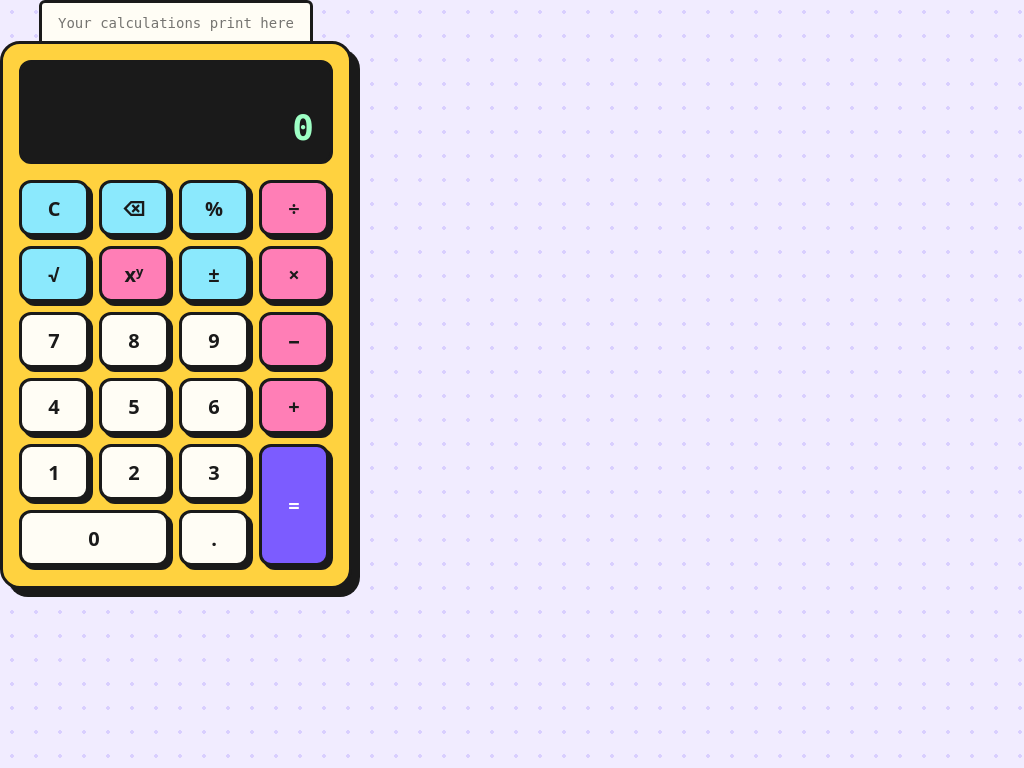
Calculator › adds through the backend
Click the button "1" at point(54, 472), box [19,444,89,500]
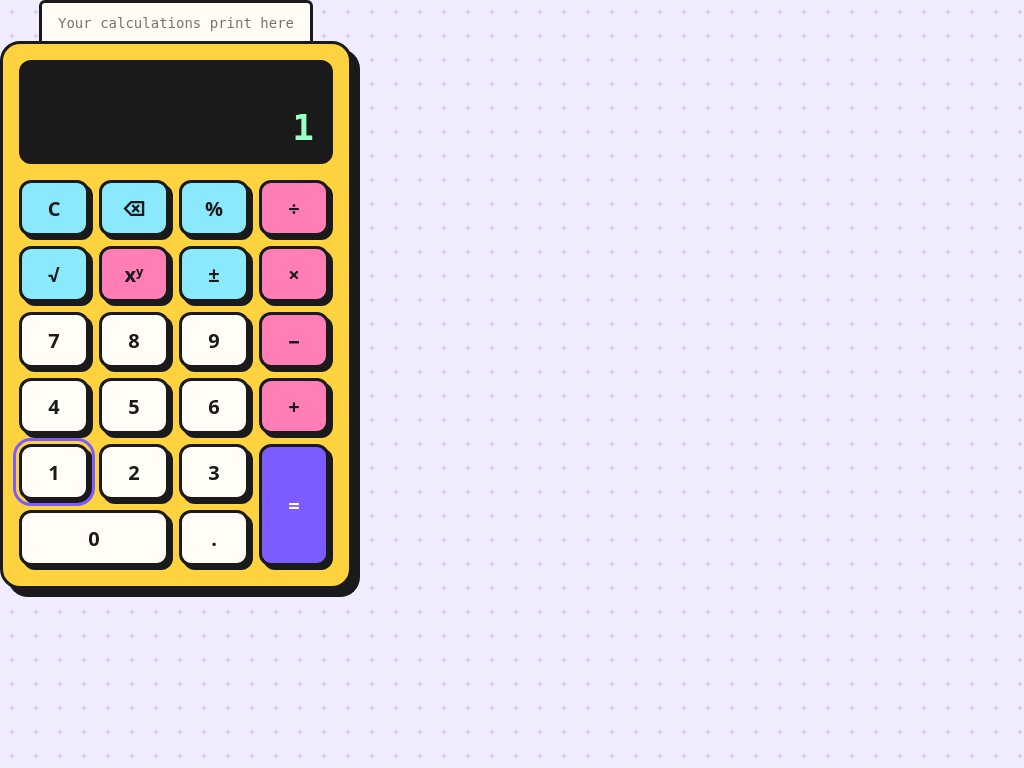
Click the button "2" at point(134, 472), box [99,444,169,500]
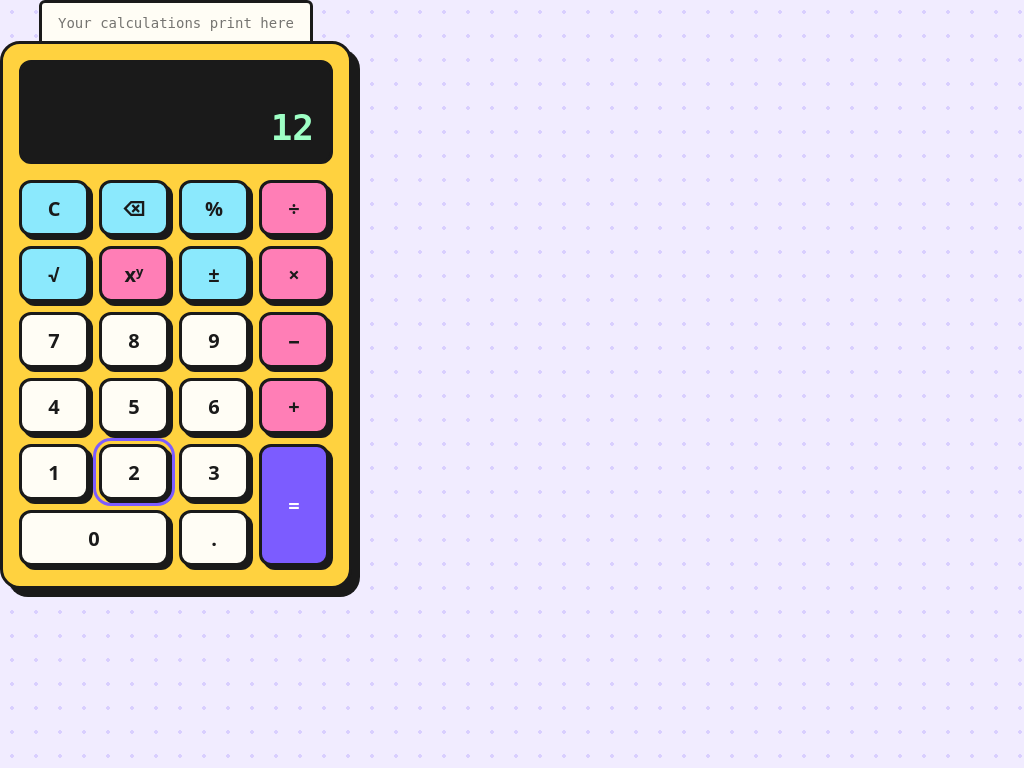
Click the button named "Add" at point(294, 406), box [259,378,329,434]
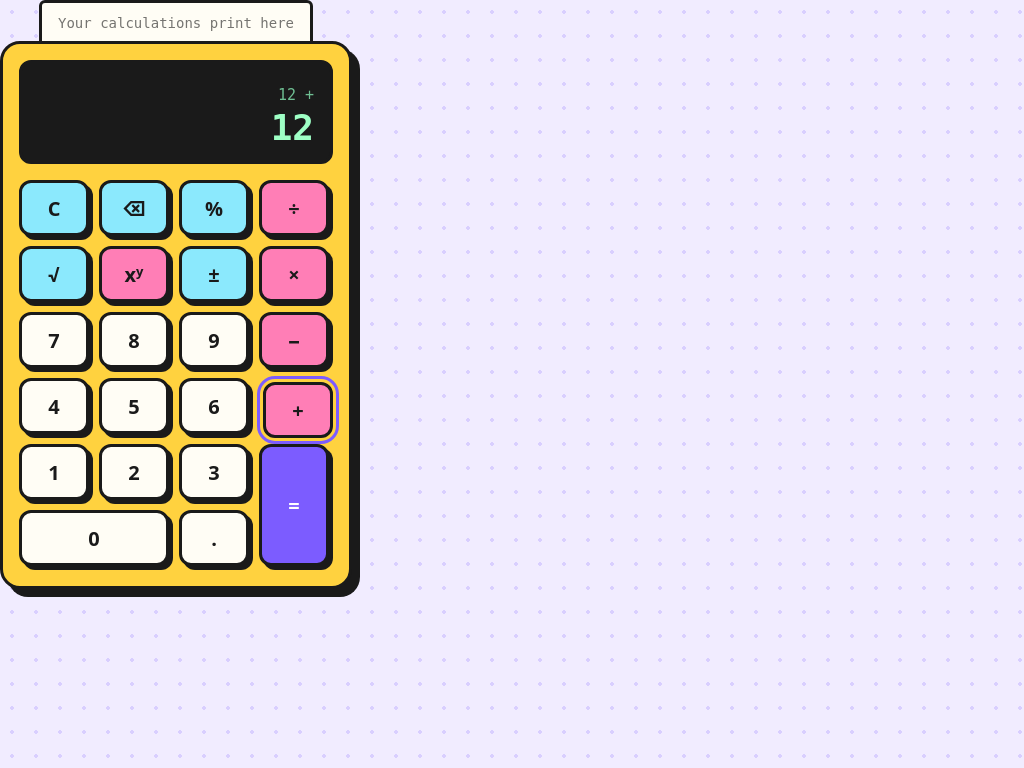
Click the button "3" at point(214, 472), box [179,444,249,500]
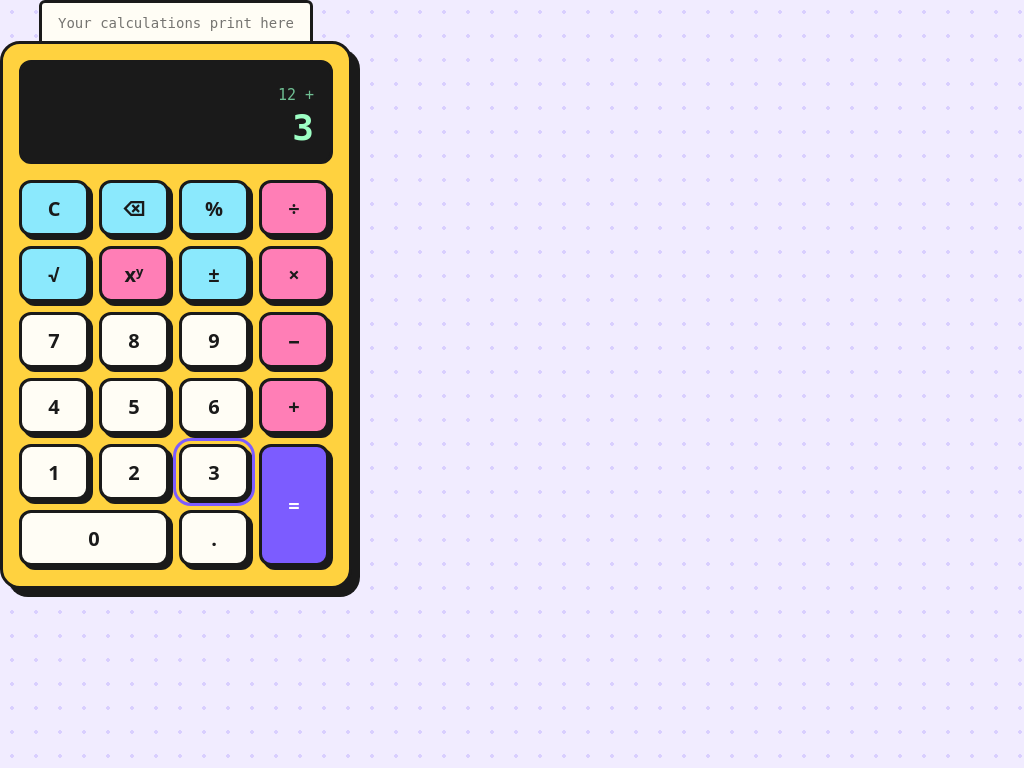
Click the button named "Equals" at point(294, 505), box [259,444,329,566]
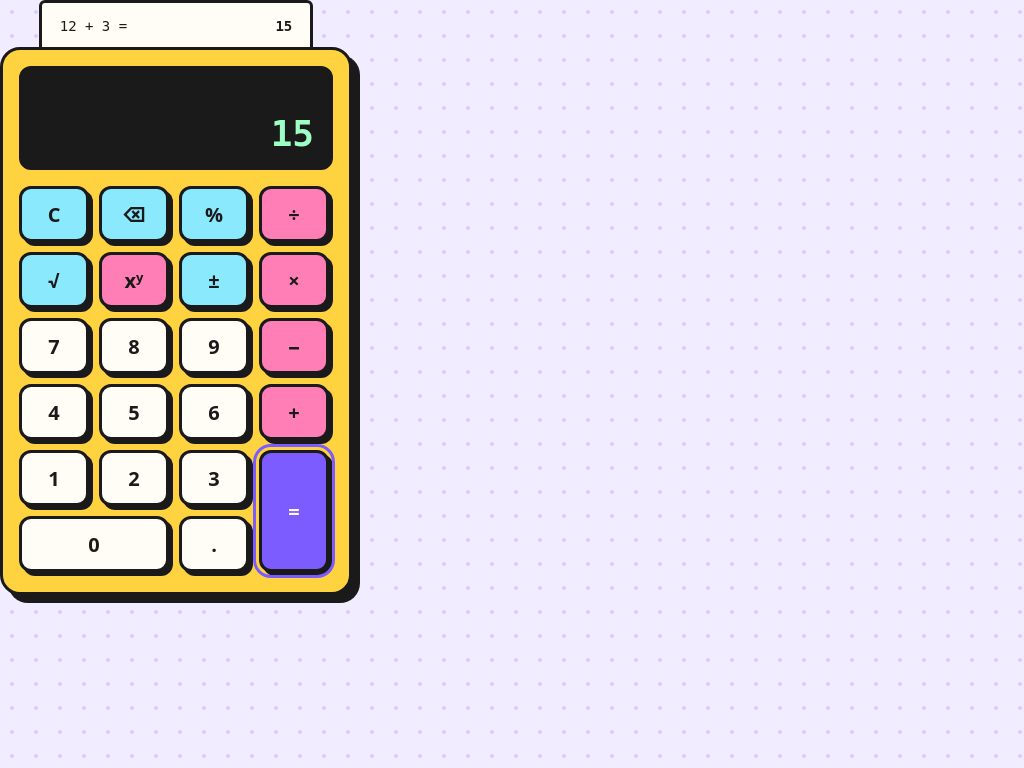
Check: the text named "Result" reads "15", box [271,113,314,154]
